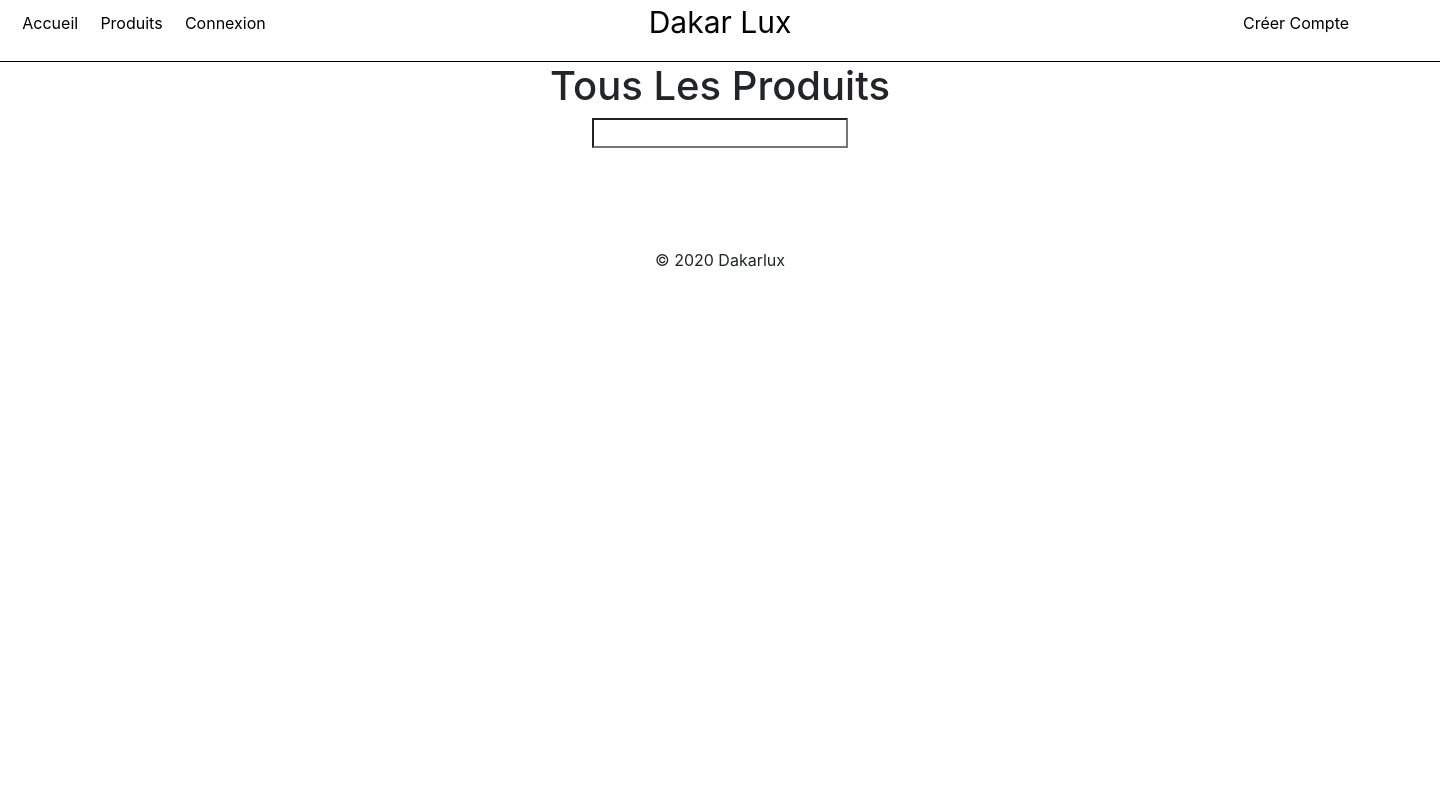
Test: tests the App renders the different pages › renders the signup page from the navigation
Click the link with test id "signup": click(1296, 22) [1243, 12, 1349, 32]
(page scrolled)
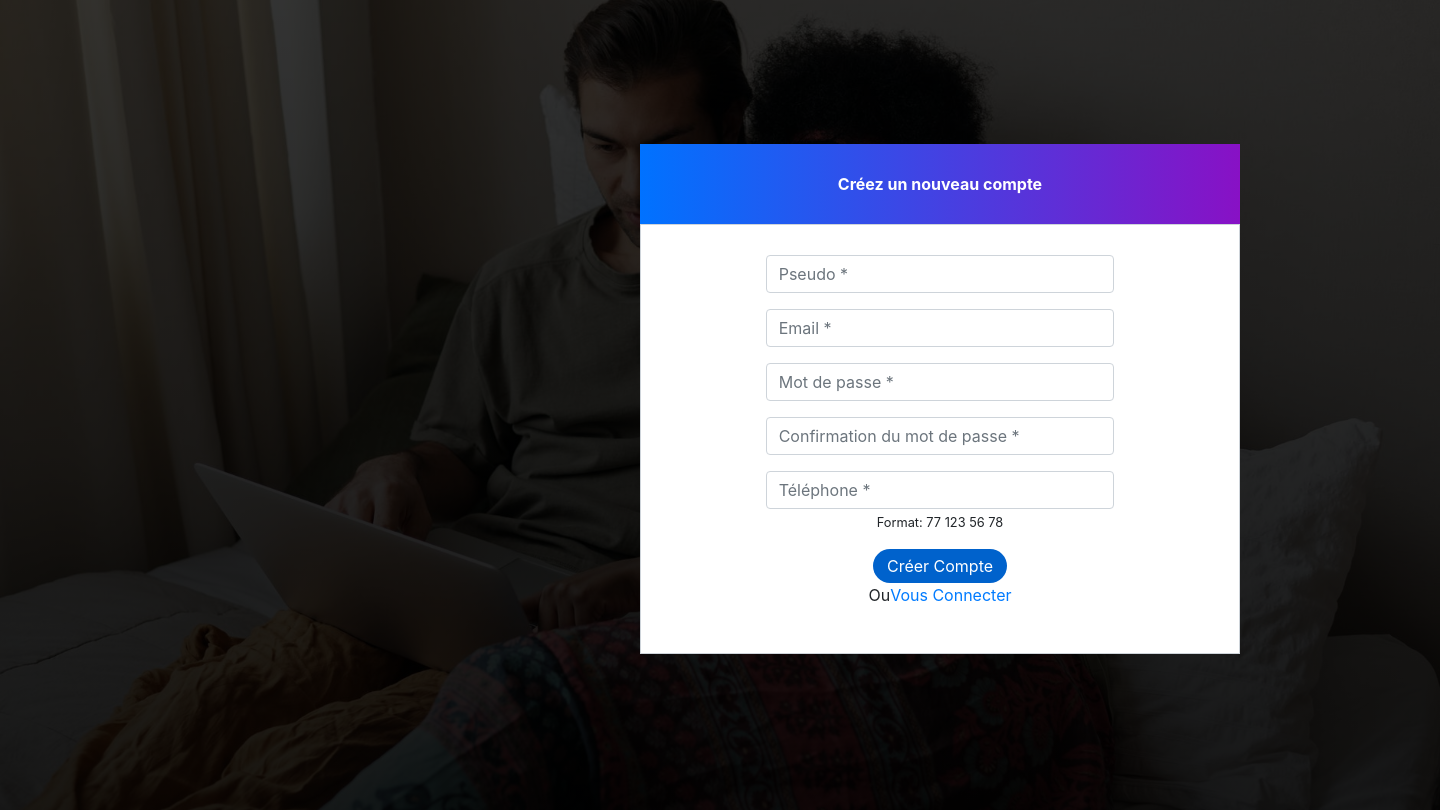
Result: the element with test id "signup-div" is shown
